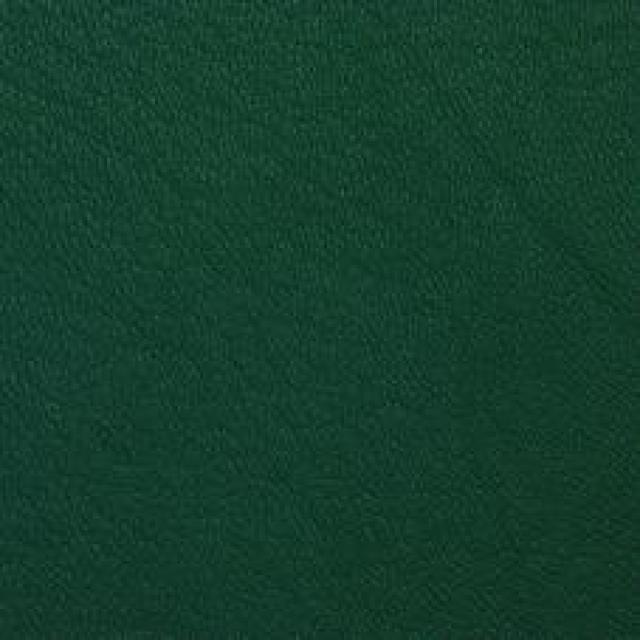Growth Marks: (391, 45, 583, 256)
